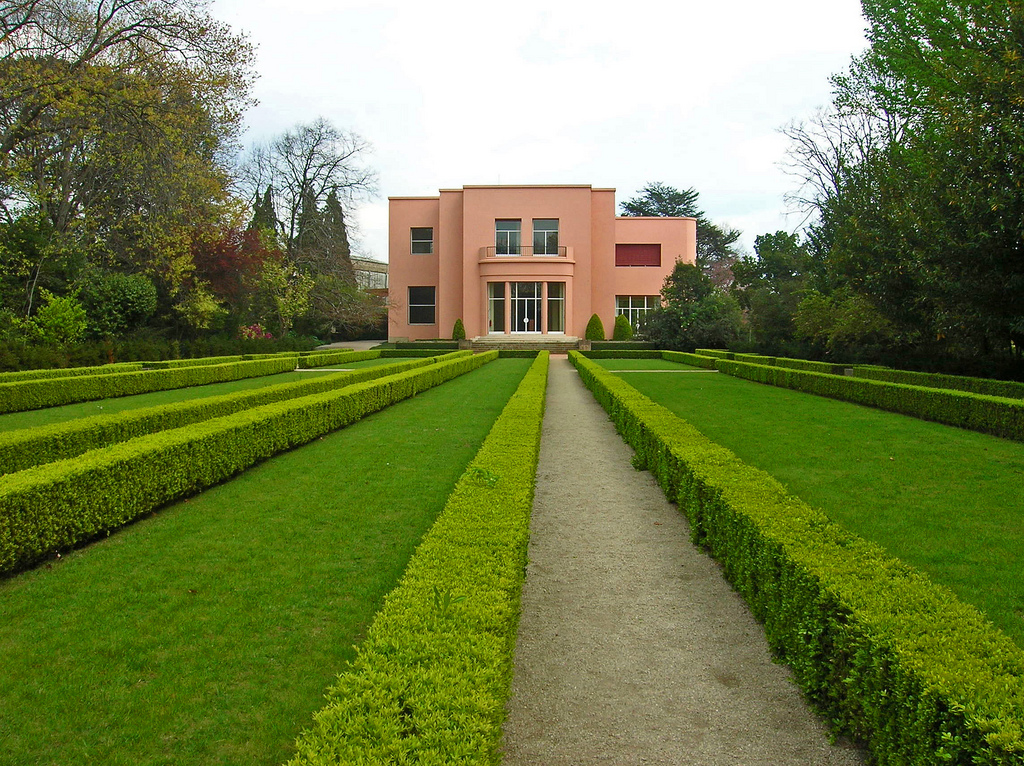serralves: (383, 182, 698, 343)
